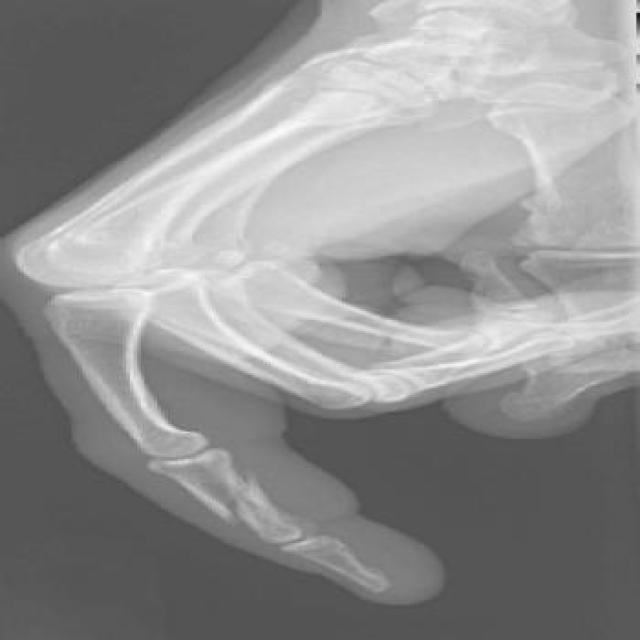fracture: (194, 460, 305, 535)
